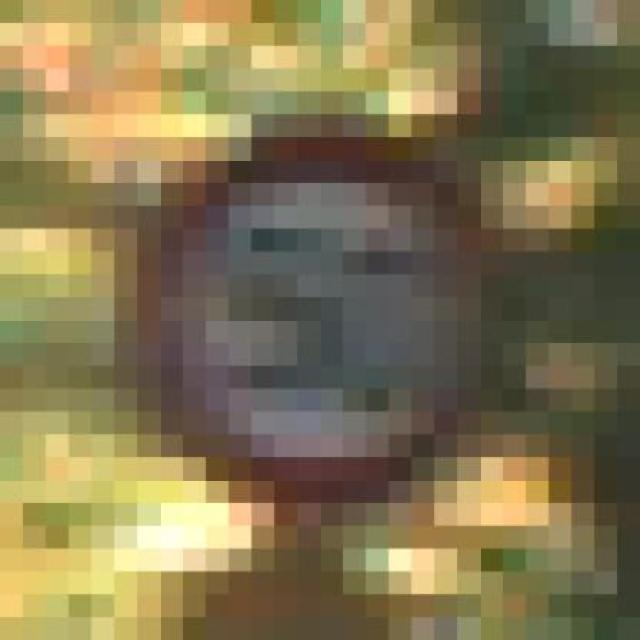50 mph speed limit: (80, 97, 538, 532)
